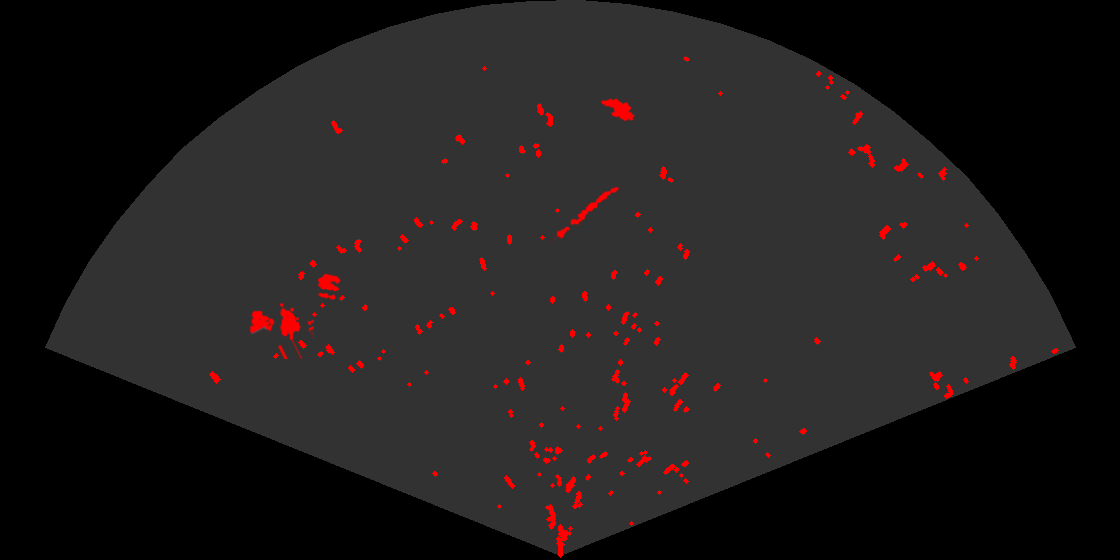AUV: (599, 97, 636, 123)
ball: (316, 272, 343, 301)
cage: (248, 301, 314, 359)
chain: (547, 185, 621, 244)
